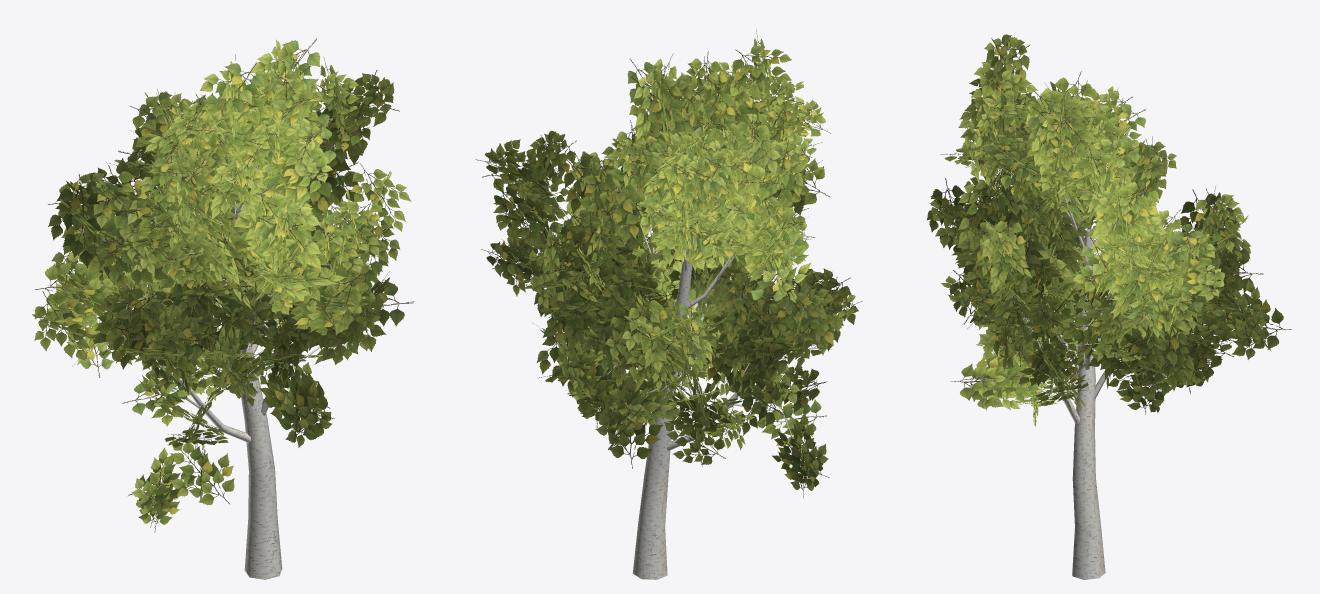
The model's file is nature-white-silver-birch_v4.glb.
3 renders of one model, left to right at view 1: azimuth 30°, elevation 25°; view 2: azimuth 150°, elevation 25°; view 3: azimuth 270°, elevation 25°, orthographic. The views are drawn at different scales.
Visible parts, largest first — view 1: nature-white-silver-birch; view 2: nature-white-silver-birch; view 3: nature-white-silver-birch.
Part boxes in pixels (bbox=[...]): nature-white-silver-birch: bbox=[32, 38, 414, 579]; nature-white-silver-birch: bbox=[475, 29, 862, 579]; nature-white-silver-birch: bbox=[927, 34, 1291, 579].
Bounding box in the file's own units: 6.04 × 9.05 × 6.33.
2 materials, 2 textured.
